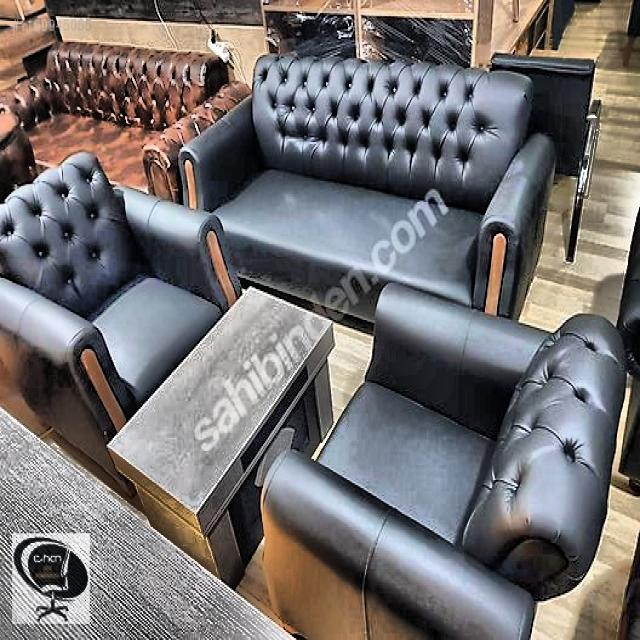sofa: (256, 282, 628, 638), (177, 50, 556, 331), (0, 148, 242, 497), (0, 38, 251, 204)
